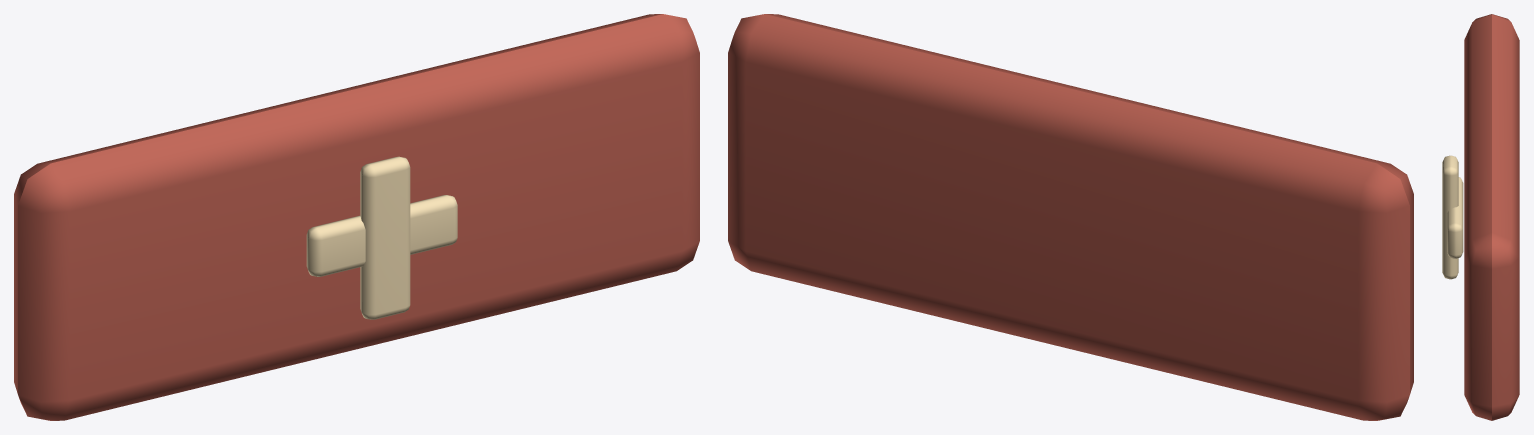
The model's file is heal-sign.glb.
3 renders of one model, left to right at view 1: azimuth 30°, elevation 25°; view 2: azimuth 150°, elevation 25°; view 3: azimuth 270°, elevation 25°, orthographic. The views are drawn at different scales.
Parts seen in each view (by area): view 1: heal-sign_red, heal-sign_cream; view 2: heal-sign_red; view 3: heal-sign_red, heal-sign_cream.
Part boxes in pixels (x1,y1,x2,y2): heal-sign_red: [14, 14, 699, 420]; heal-sign_cream: [306, 156, 457, 319]; heal-sign_red: [728, 14, 1413, 420]; heal-sign_red: [1464, 14, 1519, 420]; heal-sign_cream: [1442, 155, 1463, 279].
Bounding box in the file's own units: 1.24 × 0.45 × 0.1675.
